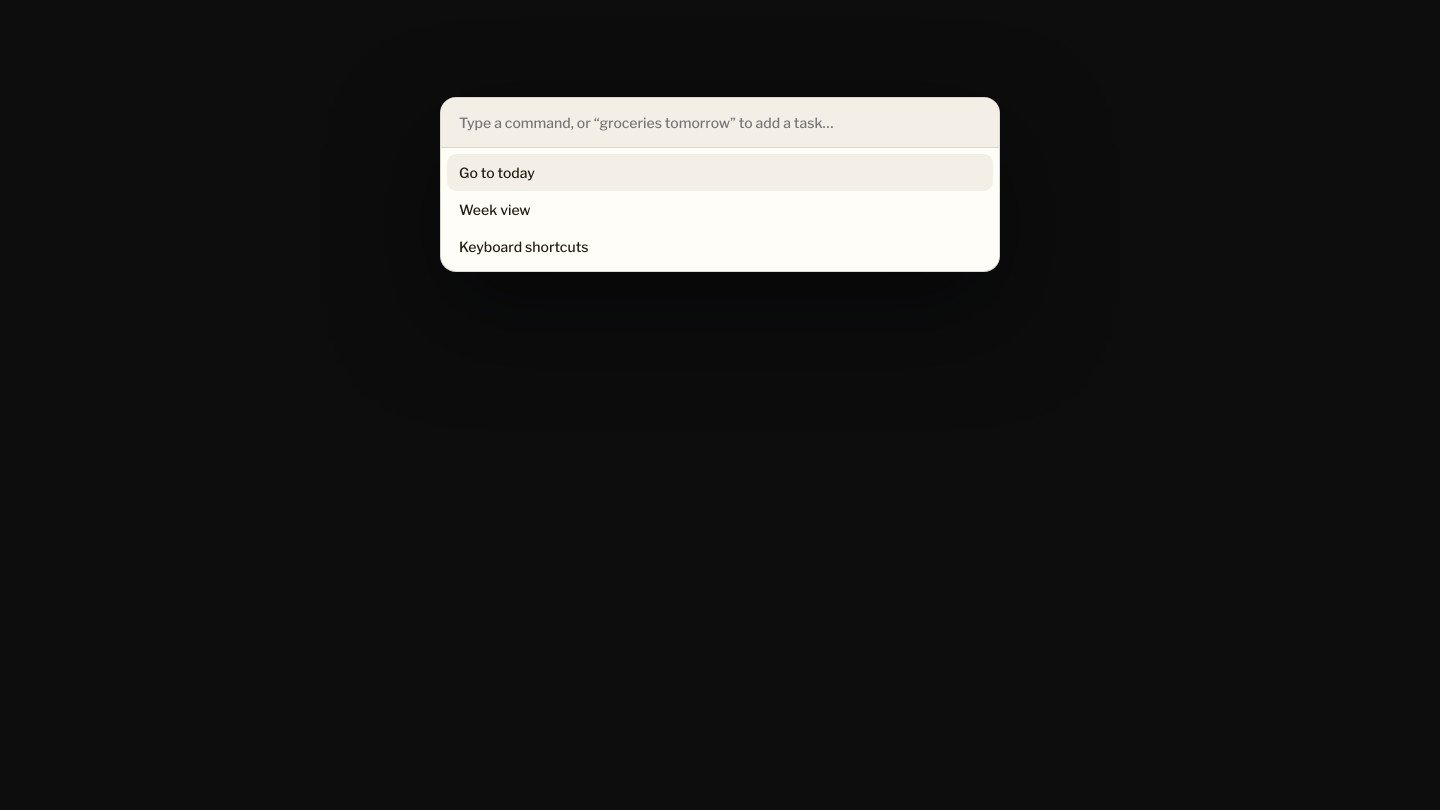
Scenario: says so when nothing matches and quick-add is unavailable
Type "zzz" into the dropdown named "Type a command, or a task to add" at (720, 123), box [441,98,999,147]
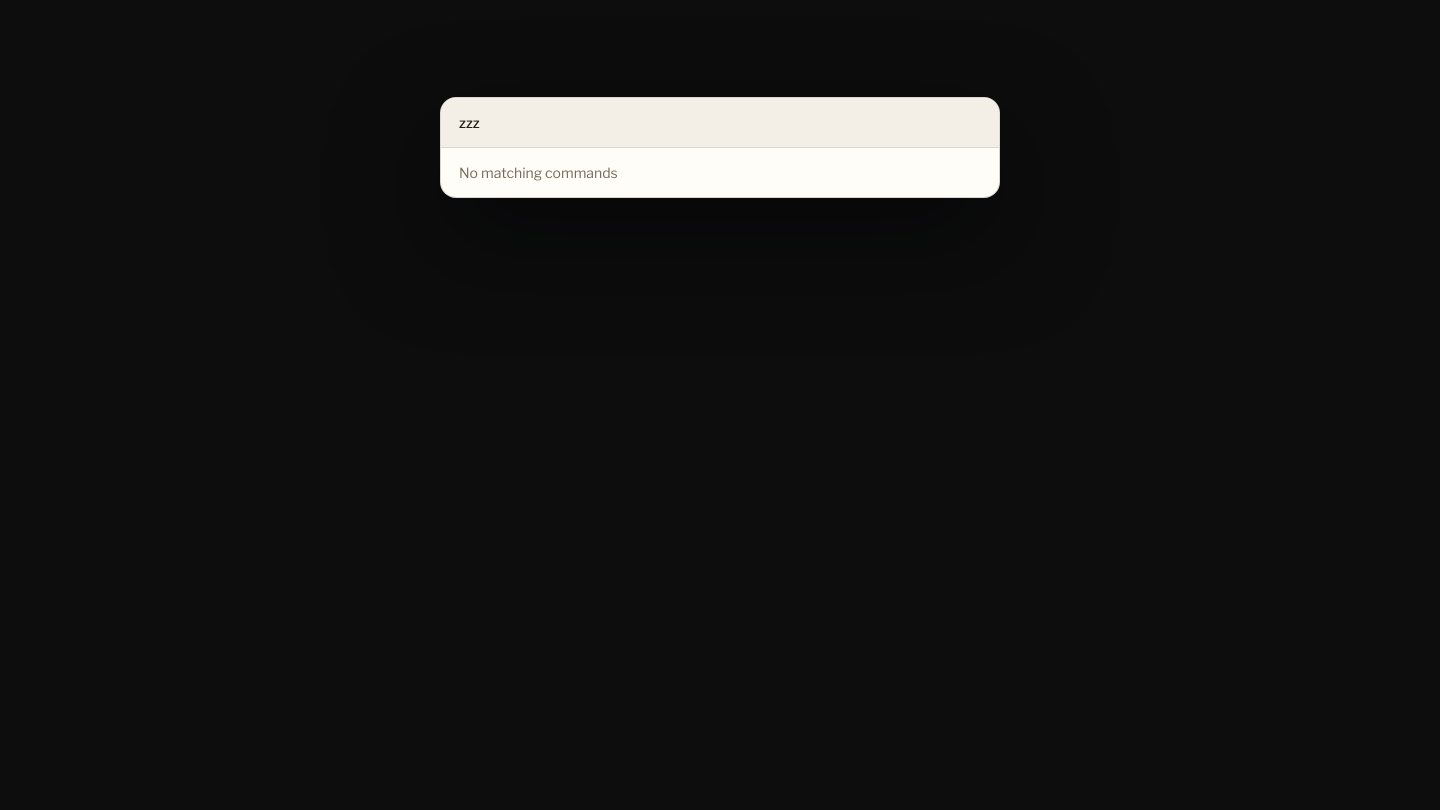
Result: no options are shown
Result: the list item "No matching commands" is shown at [459,164,618,181]
